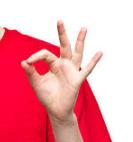left: (18, 19, 104, 118)
